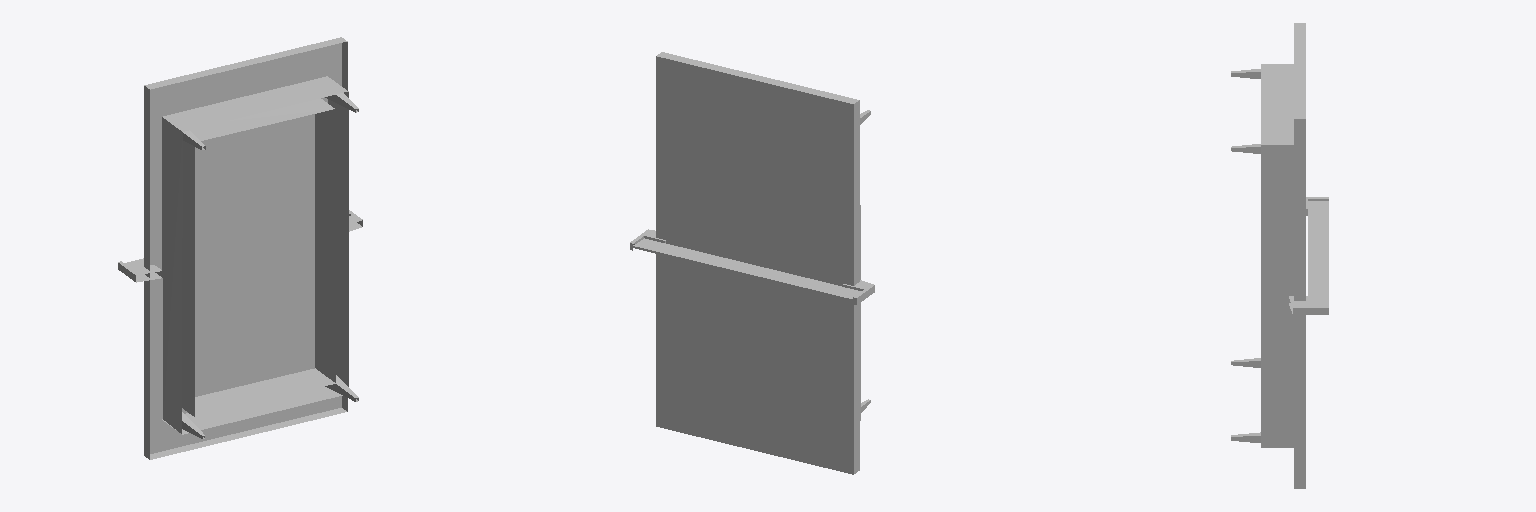
File: polygon0.190.obj
The picture shows the model from 3 angles: view 1: azimuth 30°, elevation 25°; view 2: azimuth 150°, elevation 25°; view 3: azimuth 270°, elevation 25°; orthographic projection.
Parts seen in each view (by area): view 1: polygon0.006; view 2: polygon0.006; view 3: polygon0.006.
Part boxes in pixels (x1,y1,x2,y2): polygon0.006: (118,37,362,459); polygon0.006: (630,52,874,474); polygon0.006: (1231,23,1328,488).
Bounding box in the file's own units: 21.06 × 32.8 × 7.93.